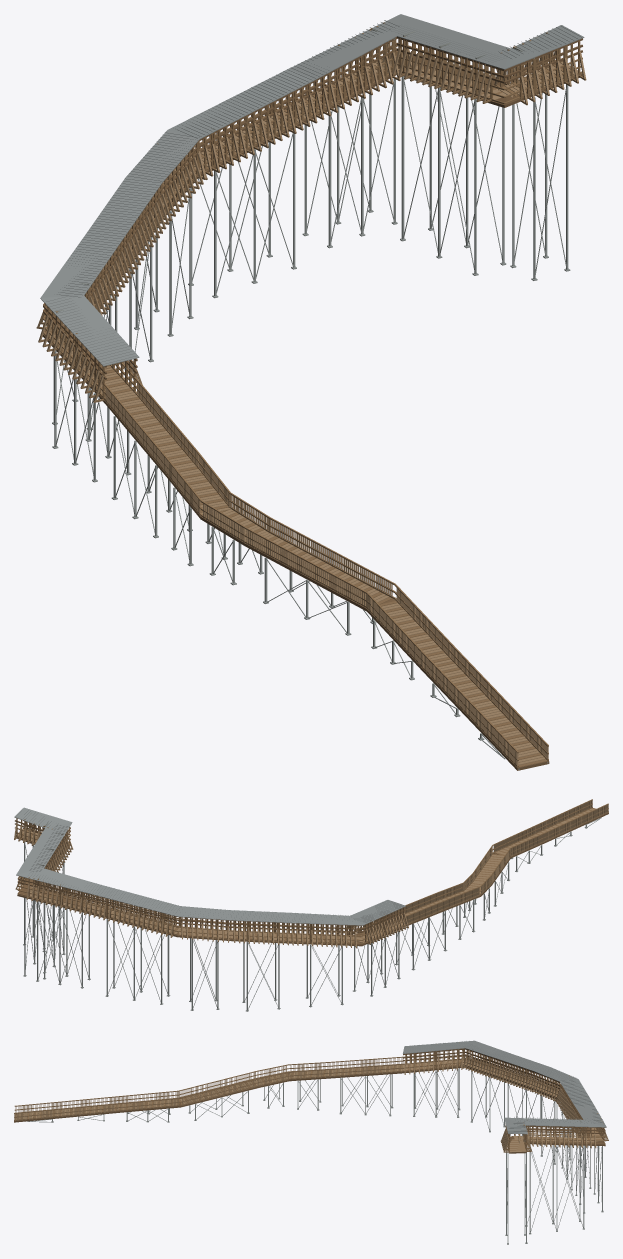
Rendered from mughrabi-bridge-v147.glb.
The picture shows the model from 3 angles, top to bottom: view 1: azimuth 30°, elevation 25°; view 2: azimuth 150°, elevation 25°; view 3: azimuth 270°, elevation 25°; orthographic projection. The views are drawn at different scales.
Parts seen in each view (by area): view 1: weathered-timber-light, galvanized-scaffold, weathered-timber-medium, corrugated-canopy, weathered-timber-dark; view 2: galvanized-scaffold, weathered-timber-medium, weathered-timber-light, corrugated-canopy, weathered-timber-dark; view 3: weathered-timber-light, weathered-timber-medium, galvanized-scaffold, corrugated-canopy, weathered-timber-dark.
Part boxes in pixels (x1,y1,x2,y2): weathered-timber-light: (37, 43, 585, 766); galvanized-scaffold: (52, 76, 570, 769); weathered-timber-medium: (36, 22, 586, 767); corrugated-canopy: (40, 14, 584, 366); weathered-timber-dark: (42, 37, 582, 770); galvanized-scaffold: (23, 817, 601, 1011); weathered-timber-medium: (14, 799, 608, 948); weathered-timber-light: (14, 800, 608, 947); corrugated-canopy: (14, 807, 405, 925); weathered-timber-dark: (15, 812, 608, 946); weathered-timber-light: (14, 1050, 608, 1152); weathered-timber-medium: (14, 1042, 608, 1152); galvanized-scaffold: (27, 1068, 603, 1244); corrugated-canopy: (403, 1040, 606, 1134); weathered-timber-dark: (14, 1048, 605, 1153).
Bounding box in the file's own units: 46.76 × 17.52 × 79.84.
